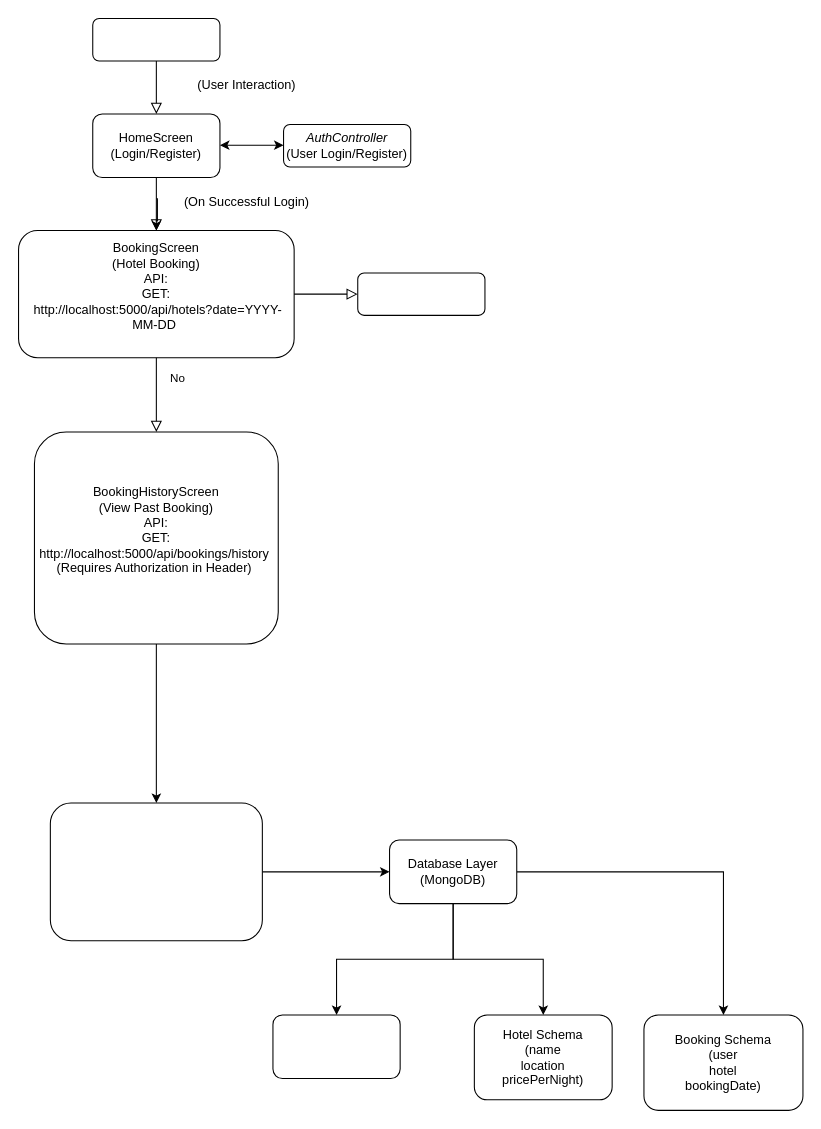
Image size: 821x1129. Some labels were removed from this diagram. The shapes that lost their labels are listed below. From the top down, each one's centre as x and y in pixels, then its label:
[156,39]: React Native App (Frontend)
[421,293]: HomeScreen
[155,871]: API Calls (Axios/Fetch) (GET /hotels, POST /bookings) (POST /hotels)
[336,1046]: User Schema (username password)
